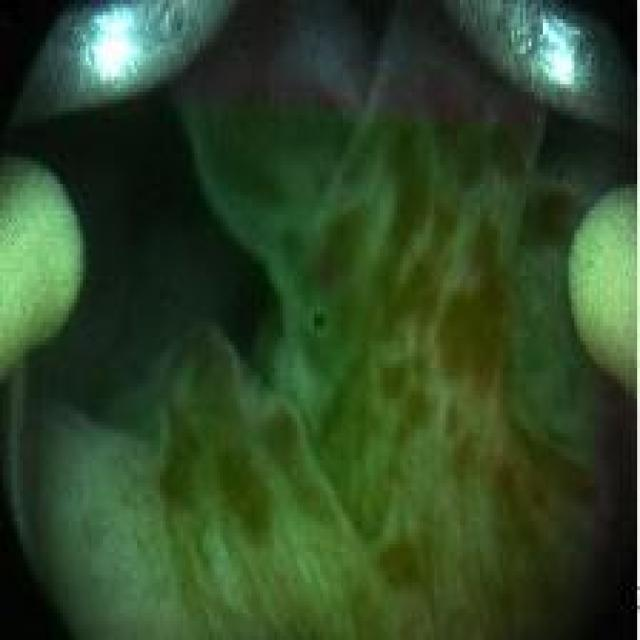color misalignment: (305, 304, 327, 335)
instrument: (440, 0, 636, 138), (13, 2, 242, 120), (0, 155, 85, 376), (562, 178, 636, 403)
specularity: (85, 14, 148, 75), (542, 38, 580, 91)
